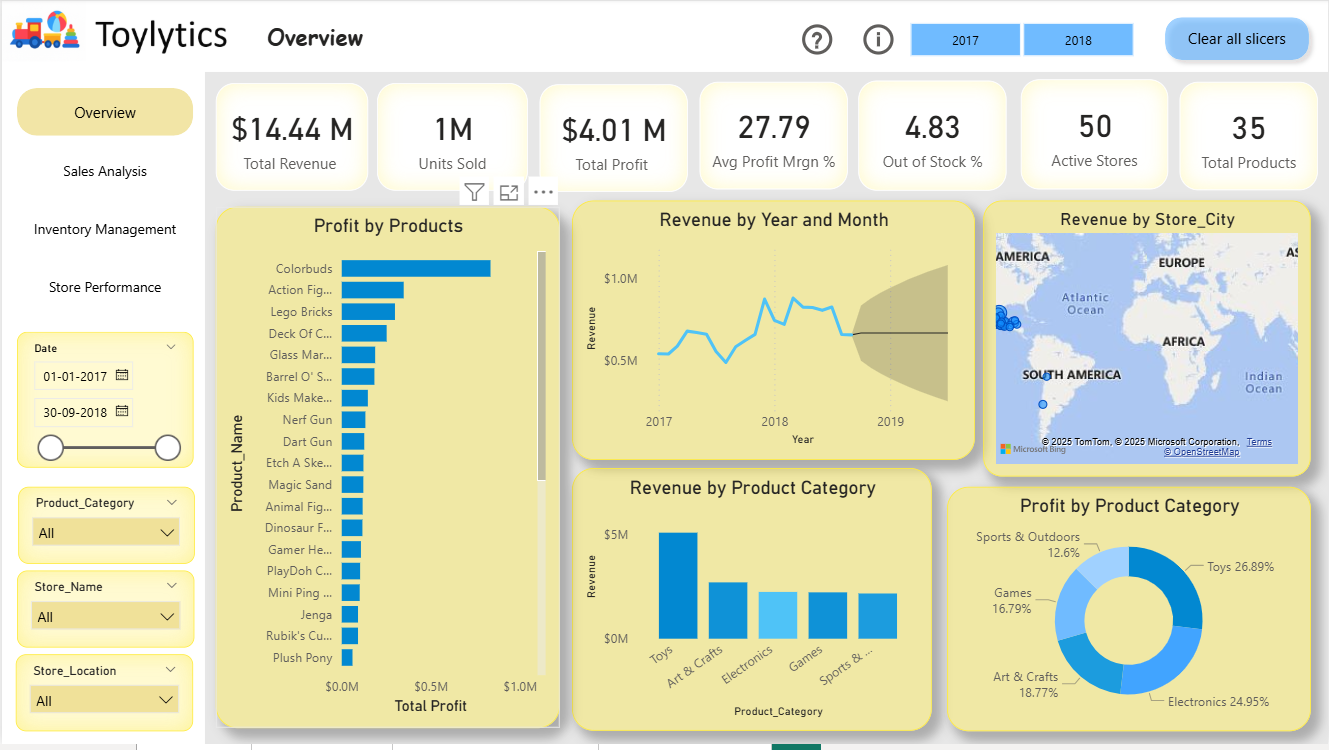

This screenshot's page, from the dashboard's own definition file:
{"tool":"powerbi","page":{"name":"Overview","canvas":[1280,720],"ordinal":0},"visuals":[{"type":"card","fields":{"Values":["sales.Total Revenue KPI"]},"box":[206.3,86.9,143.6,102.5],"z":0},{"type":"card","fields":{"Values":["Sum(sales.Units)"]},"box":[361.9,86.9,143.6,102],"z":1000},{"type":"card","fields":{"Values":["sales.total profit kpi"]},"box":[516.4,86.9,143.6,101.3],"z":2000},{"type":"card","fields":{"Values":["sales.Average Profit Margin %"]},"box":[672,85.7,142.4,102.5],"z":3000},{"type":"card","fields":{"Values":["inventory.Out of Stock %"]},"box":[826.4,85.7,143.6,101.3],"z":4000},{"type":"card","fields":{"Values":["sales.Average YoY % Revenue"]},"box":[982,84.5,142.4,102.5],"z":5000},{"type":"lineChart","title":"Revenue by Year and Month","fields":{"Y":["sales.Total Revenue"],"Category":["Date.Date.Variation.Date Hierarchy.Year","Date.Date.Variation.Date Hierarchy.Month"]},"box":[550,195,388.8,250],"z":6000},{"type":"map","title":"Revenue by Store_City","fields":{"Category":["stores.Store_City"],"Size":["sales.Total Revenue"]},"box":[947.1,195.4,316.1,266.6],"z":7000},{"type":"clusteredColumnChart","title":"Revenue by Product Category","fields":{"Category":["products.Product_Category"],"Y":["sales.Total Revenue"]},"box":[550,453.8,347.5,253.8],"z":8000},{"type":"donutChart","title":"Profit by Product Category","fields":{"Category":["products.Product_Category"],"Y":["sales.Total Profit"]},"box":[912.5,471.2,351.2,236.2],"z":9000},{"type":"clusteredBarChart","title":"Profit by Products","fields":{"Category":["products.Product_Name"],"Y":["sales.Total Profit"]},"box":[206.3,201.5,331.8,503.1],"z":10000},{"type":"pageNavigator","box":[14.5,103.8,170.1,217.2],"z":11000},{"type":"slicer","fields":{"Values":["sales.Date"]},"box":[869.8,9.7,235.3,55],"z":12000},{"type":"slicer","fields":{"Values":["products.Product_Category"]},"box":[15.7,381,170.1,74.8],"z":13000},{"type":"slicer","fields":{"Values":["stores.Store_Name"]},"box":[14.5,490.9,171.3,74.8],"z":14000},{"type":"slicer","fields":{"Values":["stores.Store_Location"]},"box":[13.3,600.8,171.3,74.8],"z":15000},{"type":"textbox","box":[250.9,16.9,130.3,42.2],"z":16000},{"type":"actionButton","box":[1113.5,9.7,156.8,59.1],"z":17000},{"type":"card","fields":{"Values":["CountNonNull(products.Product_ID)"]},"box":[1136.5,84.5,142.4,102.5],"z":18000},{"type":"actionButton","box":[826.8,20.7,40.2,39],"z":19000},{"type":"actionButton","box":[767.1,20.7,50,39],"z":21000}]}

Visuals, with their boxes on the page's 1280x720 design canvas (x1, y1, x2, y2). These are canvas units, not pixel positions in the 1329x750 screenshot, which may show the page scaled, cropped or inside an application window:
card - sales.Total Revenue KPI: rect(206, 87, 350, 189)
card - Sum(sales.Units): rect(362, 87, 506, 189)
card - sales.total profit kpi: rect(516, 87, 660, 188)
card - sales.Average Profit Margin %: rect(672, 86, 814, 188)
card - inventory.Out of Stock %: rect(826, 86, 970, 187)
card - sales.Average YoY % Revenue: rect(982, 84, 1124, 187)
"Revenue by Year and Month" lineChart: rect(550, 195, 939, 445)
"Revenue by Store_City" map: rect(947, 195, 1263, 462)
"Revenue by Product Category" clusteredColumnChart: rect(550, 454, 898, 708)
"Profit by Product Category" donutChart: rect(912, 471, 1264, 707)
"Profit by Products" clusteredBarChart: rect(206, 202, 538, 705)
pageNavigator: rect(14, 104, 185, 321)
slicer - sales.Date: rect(870, 10, 1105, 65)
slicer - products.Product_Category: rect(16, 381, 186, 456)
slicer - stores.Store_Name: rect(14, 491, 186, 566)
slicer - stores.Store_Location: rect(13, 601, 185, 676)
textbox: rect(251, 17, 381, 59)
actionButton: rect(1114, 10, 1270, 69)
card - CountNonNull(products.Product_ID): rect(1136, 84, 1279, 187)
actionButton: rect(827, 21, 867, 60)
actionButton: rect(767, 21, 817, 60)
